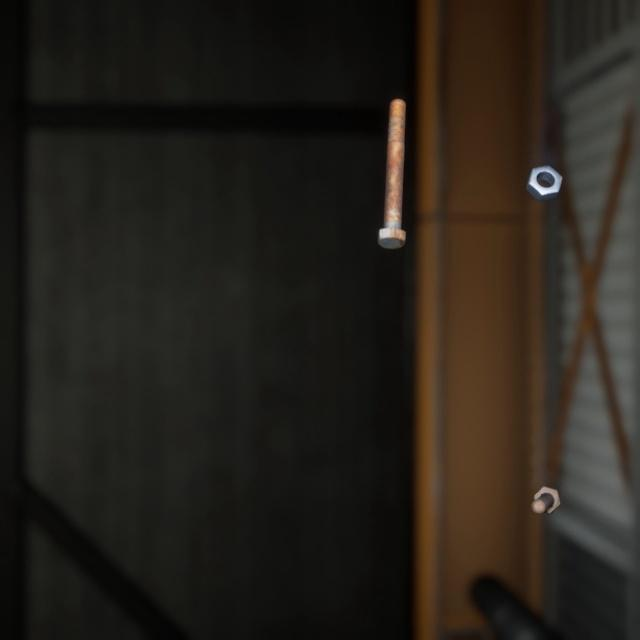bolt: (373, 81, 410, 240), (526, 460, 565, 497)
nut: (521, 147, 566, 191)
